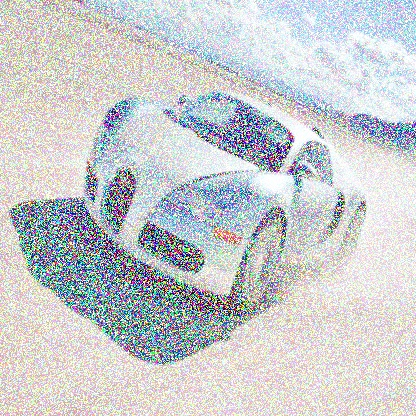Vehicle: (84, 89, 368, 313)
